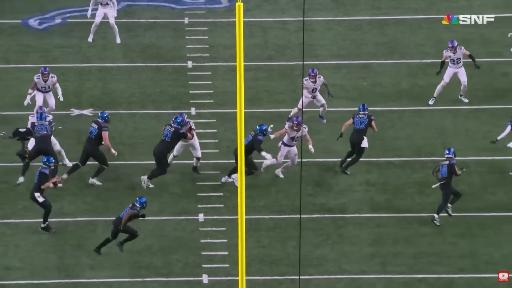Helmet: (256, 124, 268, 136), (172, 116, 185, 127), (36, 107, 46, 121), (292, 116, 302, 130), (136, 197, 147, 209), (444, 147, 456, 158), (40, 67, 49, 81), (98, 112, 109, 123), (42, 157, 54, 167), (448, 40, 457, 53), (35, 106, 46, 115), (308, 69, 317, 80), (359, 104, 368, 113), (178, 113, 187, 121)
Jersey: (158, 124, 187, 153), (86, 120, 108, 147), (31, 119, 52, 145), (351, 114, 374, 137), (283, 124, 307, 146), (439, 159, 457, 185), (32, 167, 50, 193), (118, 203, 141, 223), (245, 132, 263, 157), (444, 47, 464, 68), (34, 74, 56, 93), (303, 76, 323, 96), (27, 115, 36, 127), (97, 0, 112, 7), (182, 134, 195, 142), (507, 121, 511, 126)
Player: (62, 112, 117, 185), (141, 116, 194, 187), (429, 40, 479, 104), (262, 116, 314, 177), (94, 197, 147, 255), (17, 111, 58, 184), (337, 104, 377, 174), (433, 148, 464, 225), (287, 69, 332, 122), (30, 157, 59, 233), (168, 114, 201, 173), (24, 67, 63, 113), (88, 0, 120, 43), (245, 125, 272, 175), (52, 136, 71, 166), (491, 121, 511, 143)
